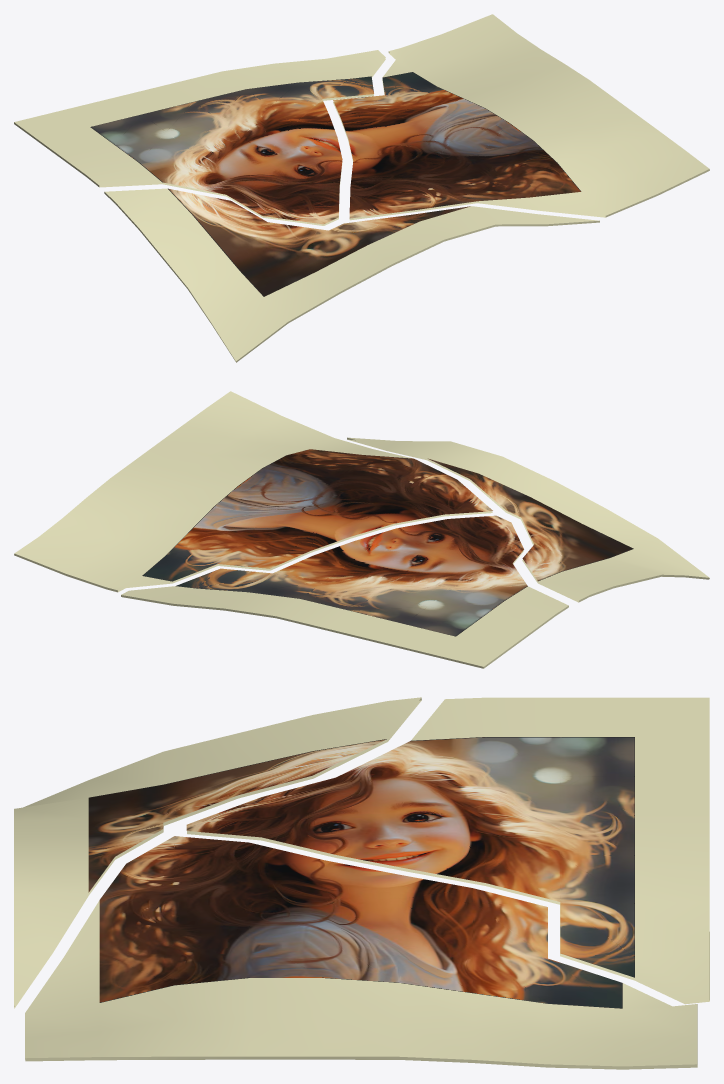
Rendered from photo.fbx.
3 renders of one model, top to bottom at view 1: azimuth 30°, elevation 25°; view 2: azimuth 150°, elevation 25°; view 3: azimuth 270°, elevation 25°, orthographic. The views are drawn at different scales.
Parts seen in each view (by area): view 1: Plane.002, Plane.003, Plane.004; view 2: Plane.002, Plane.003, Plane.004; view 3: Plane.002, Plane.003, Plane.004.
Boxes of the visible parts, <box> form: Plane.002: <box>333,14,709,220</box>; Plane.003: <box>14,50,385,225</box>; Plane.004: <box>104,188,599,362</box>; Plane.002: <box>14,391,492,592</box>; Plane.003: <box>121,515,568,668</box>; Plane.004: <box>347,437,709,602</box>; Plane.002: <box>25,836,697,1069</box>; Plane.003: <box>186,697,709,1004</box>; Plane.004: <box>14,697,421,1008</box>.
Bounding box in the file's own units: 254 × 38.77 × 207.
2 materials, 1 textured.
